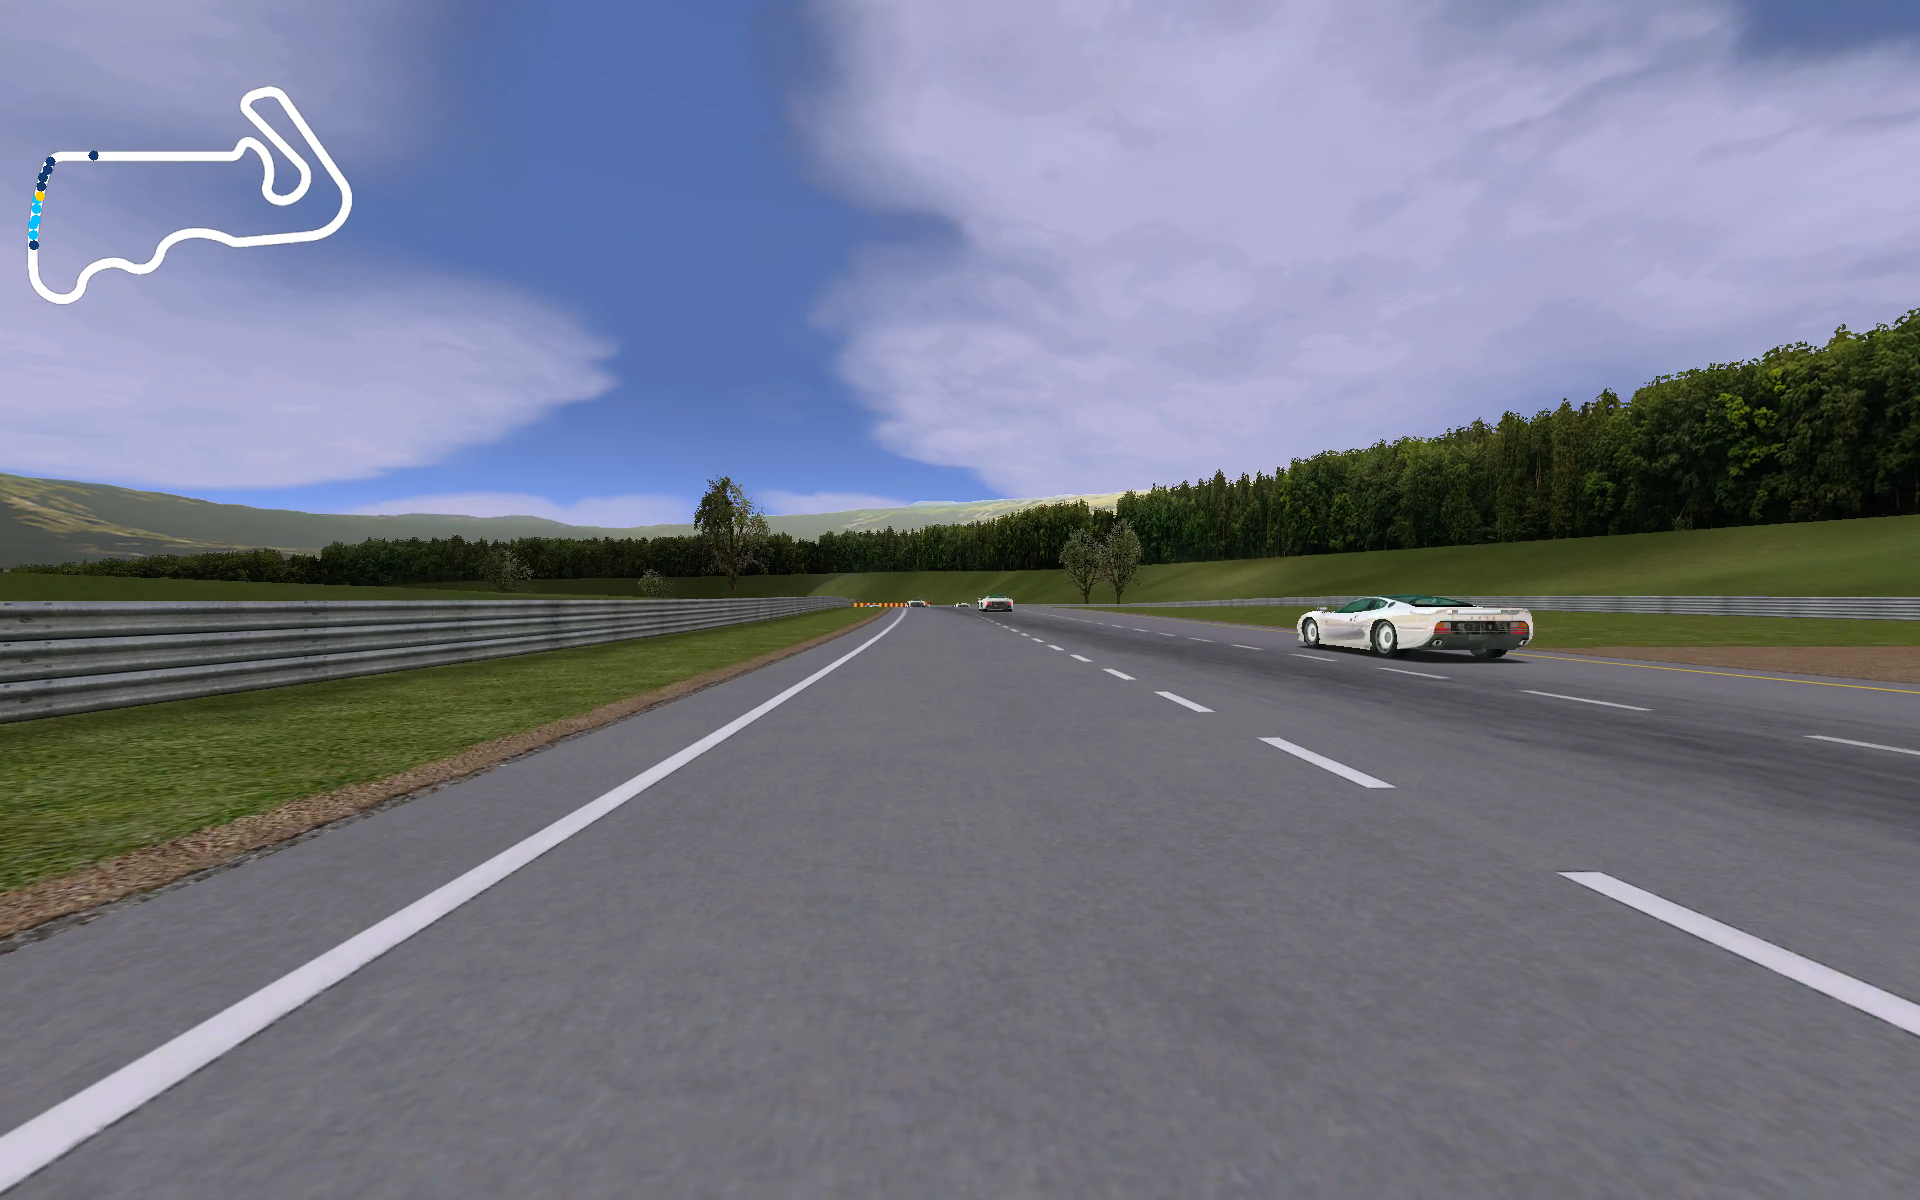car: (1297, 592, 1538, 659), (976, 590, 1017, 615)
